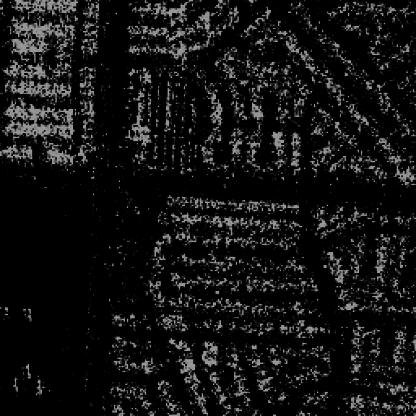airplane: (8, 374, 23, 396), (31, 375, 45, 395), (20, 359, 32, 379), (20, 306, 34, 322), (0, 299, 10, 317)
